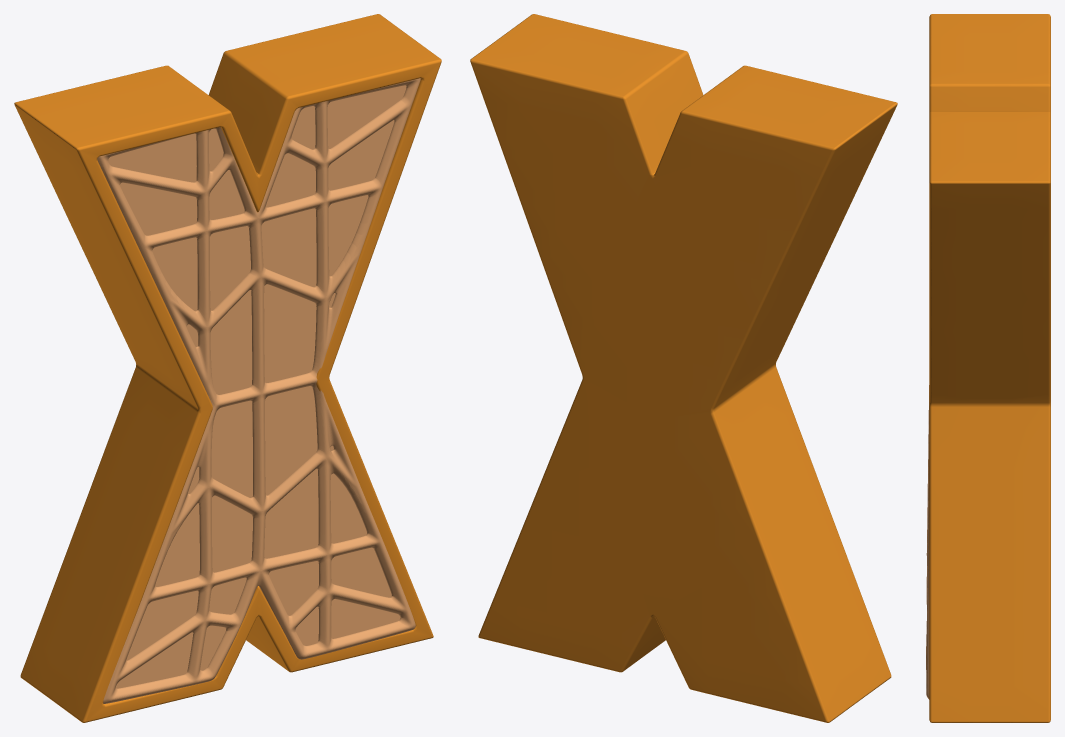
File: X_nuevo.glb
3 renders of one model, left to right at view 1: azimuth 30°, elevation 25°; view 2: azimuth 150°, elevation 25°; view 3: azimuth 270°, elevation 25°, orthographic. The views are drawn at different scales.
Parts seen in each view (by area): view 1: Text.014, Plane.038, Plane.036; view 2: Text.014; view 3: Text.014, Plane.036.
Boxes of the visible parts, bbox=[...] form: Text.014: bbox=[14, 14, 441, 722]; Plane.038: bbox=[108, 85, 406, 688]; Plane.036: bbox=[97, 78, 420, 703]; Text.014: bbox=[470, 14, 897, 722]; Text.014: bbox=[929, 14, 1050, 722]; Plane.036: bbox=[926, 385, 929, 699].
Bounding box in the file's own units: 2.04 × 3.07 × 0.6379.
